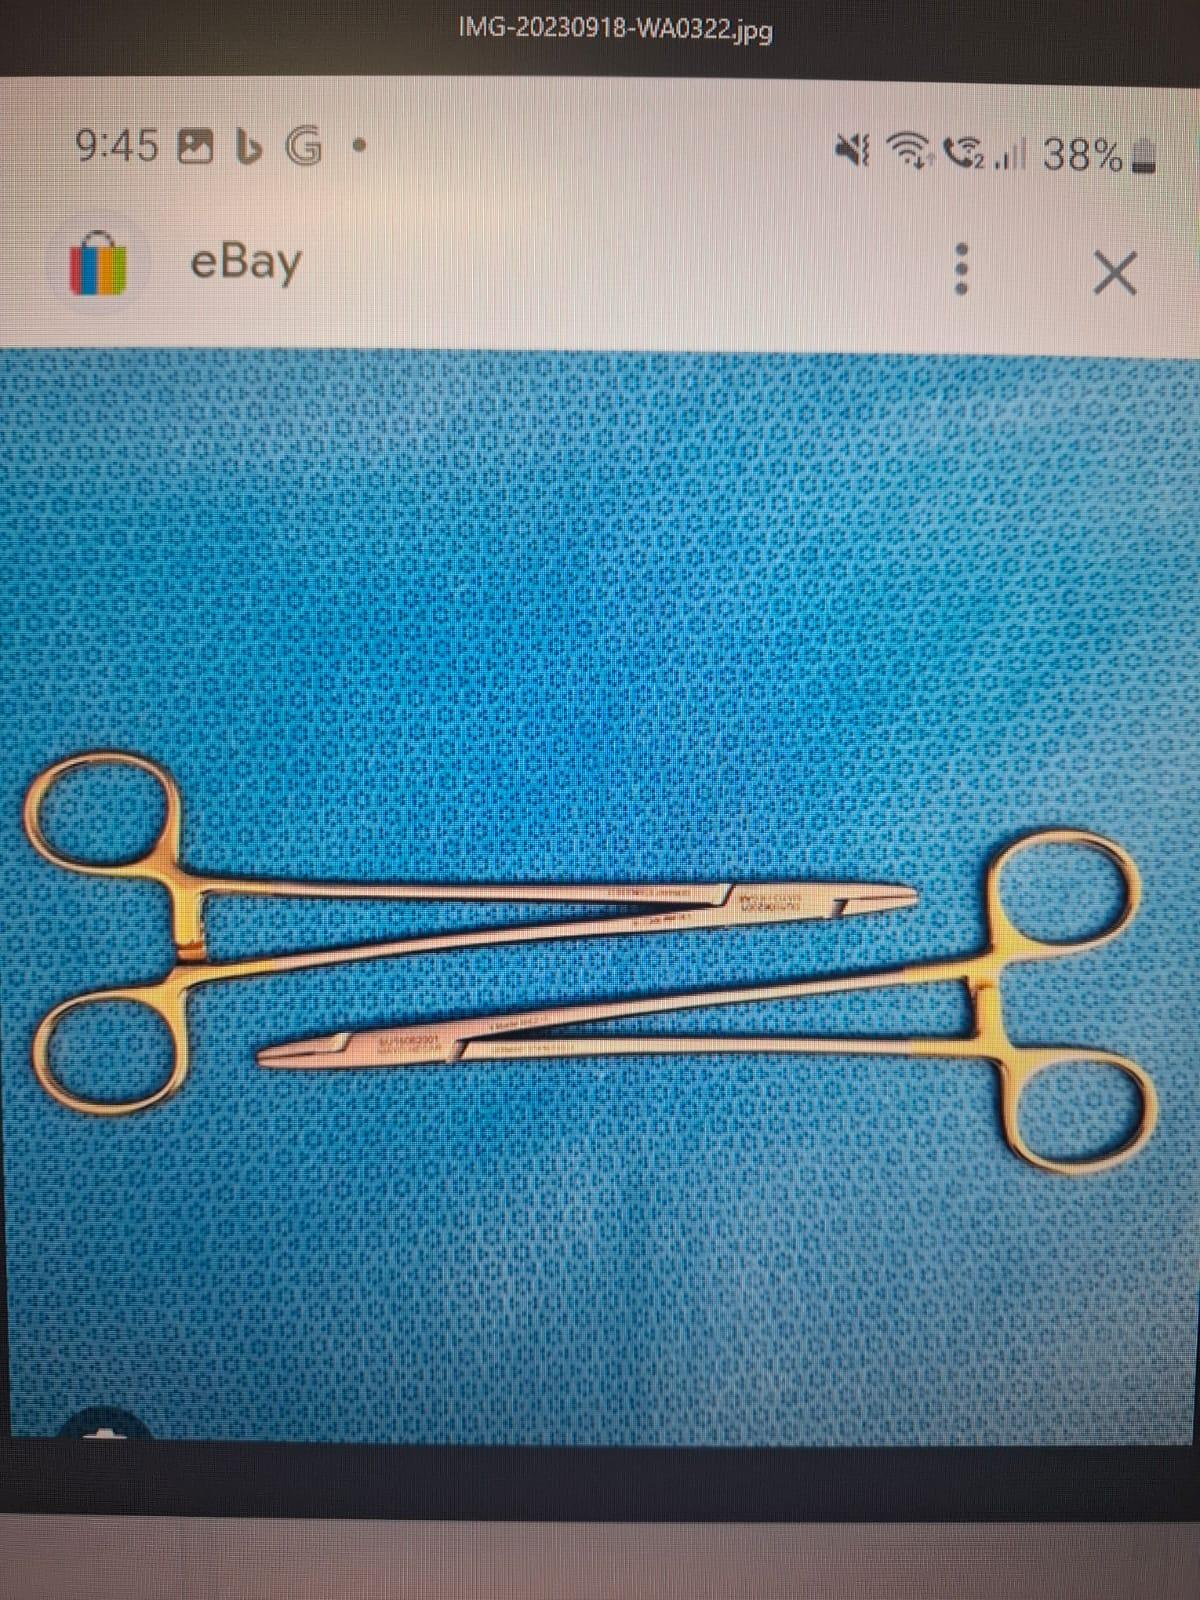Needle Holder: (3, 727, 935, 1120), (242, 813, 1175, 1186)
